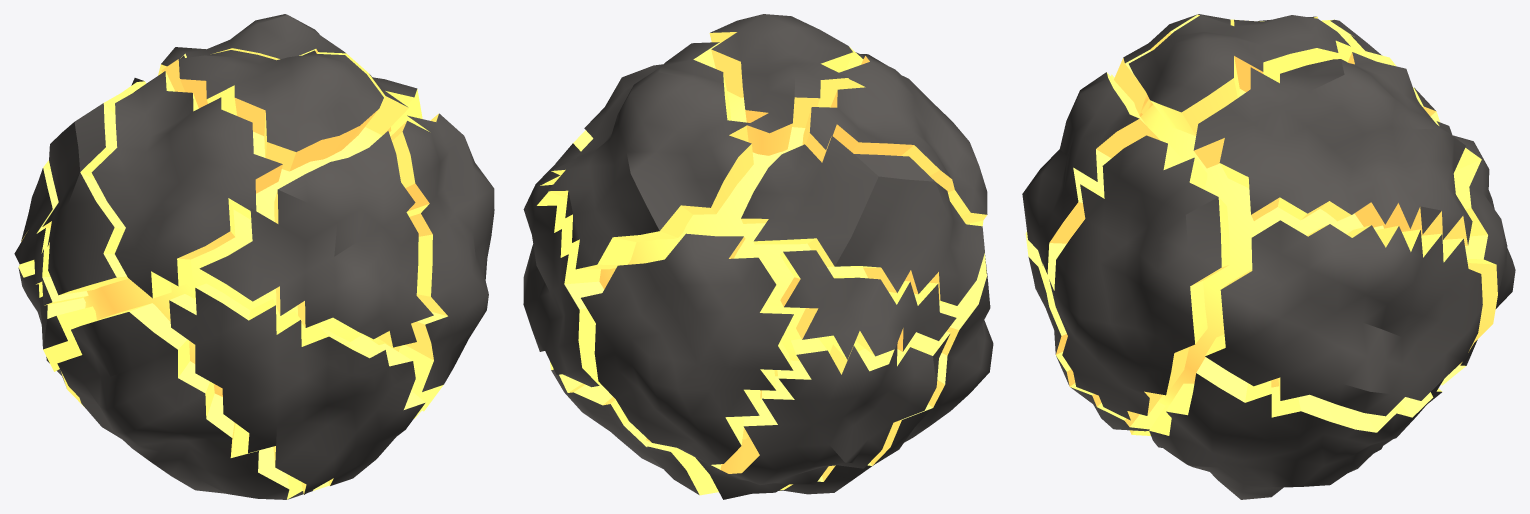
Rendered from art_hearth.glb.
3 views of the same model, side by side, from view 1: azimuth 30°, elevation 25°; view 2: azimuth 150°, elevation 25°; view 3: azimuth 270°, elevation 25° (orthographic). The views are drawn at different scales.
Parts seen in each view (by area): view 1: body; view 2: body; view 3: body.
Boxes of the visible parts, left/top/right/bottom form: body: left=14, top=14, right=494, bottom=499; body: left=523, top=14, right=993, bottom=499; body: left=1022, top=14, right=1515, bottom=499.
Size of the model in its own units: 0.0524 by 0.0542 by 0.0537.
